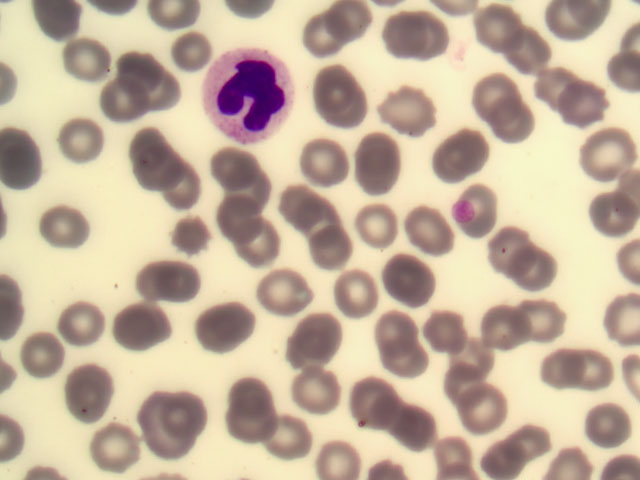RBC: (57, 32, 116, 91), (97, 80, 156, 139), (108, 46, 167, 105), (135, 61, 194, 120), (163, 17, 222, 76), (57, 113, 116, 172), (31, 196, 90, 255), (111, 112, 170, 171), (133, 152, 192, 211), (155, 153, 214, 212), (207, 130, 266, 189), (217, 161, 276, 220), (204, 189, 263, 248), (225, 211, 284, 270), (155, 204, 214, 263), (163, 253, 222, 312), (125, 254, 184, 313), (113, 299, 172, 358), (60, 290, 119, 349), (22, 326, 81, 385), (68, 360, 127, 419), (89, 410, 148, 469), (125, 397, 184, 456), (161, 394, 220, 453), (219, 356, 278, 415), (230, 397, 289, 456), (261, 411, 320, 470), (202, 296, 261, 355), (258, 267, 317, 326), (283, 306, 342, 365), (287, 364, 346, 423), (340, 373, 399, 432), (376, 396, 435, 455), (306, 421, 365, 480), (425, 421, 484, 480), (452, 382, 511, 441), (440, 361, 499, 420), (442, 331, 501, 390), (421, 306, 480, 365), (374, 340, 433, 399), (367, 304, 426, 363), (327, 264, 386, 323), (307, 231, 366, 290), (294, 193, 353, 252), (281, 183, 340, 242), (352, 202, 411, 261), (352, 136, 411, 195), (296, 133, 355, 192), (312, 94, 371, 153), (306, 50, 365, 109), (300, 7, 359, 66), (379, 18, 430, 62), (380, 89, 431, 133), (434, 139, 485, 183), (485, 97, 536, 141), (467, 68, 518, 112), (472, 3, 523, 47), (504, 27, 555, 71), (532, 61, 583, 105), (557, 78, 608, 122), (583, 132, 634, 176), (589, 189, 640, 233), (535, 344, 586, 388), (566, 350, 617, 394), (583, 396, 634, 440), (521, 296, 572, 340), (480, 301, 531, 345), (519, 248, 570, 292), (487, 222, 538, 266), (455, 180, 506, 224), (402, 203, 453, 247), (478, 436, 529, 480), (506, 418, 557, 462)
WBC: (198, 51, 300, 143)
